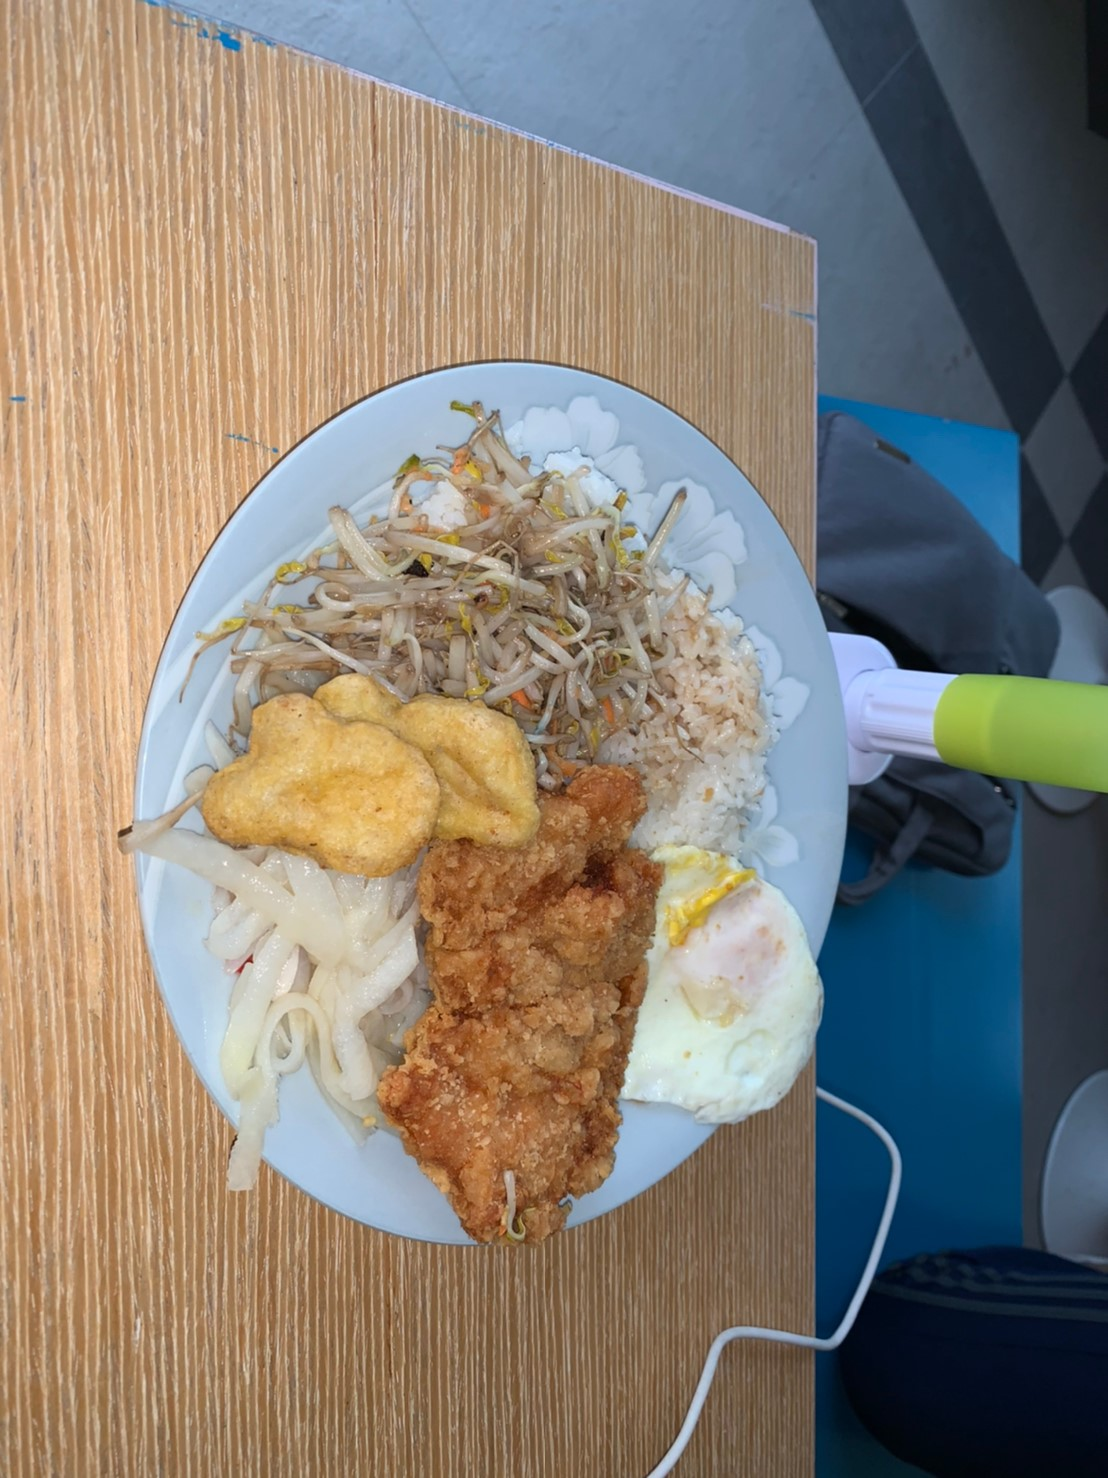chicken_nuggets: (199, 674, 537, 877)
fried_chicken: (377, 761, 662, 1251)
fried_eggs: (635, 845, 824, 1130)
mung_bean_sprouts: (343, 497, 637, 691)
rice: (665, 649, 763, 819)
